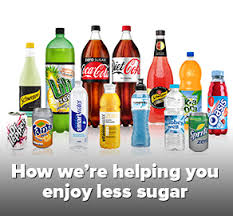can: (187, 106, 211, 162), (30, 109, 53, 153)
